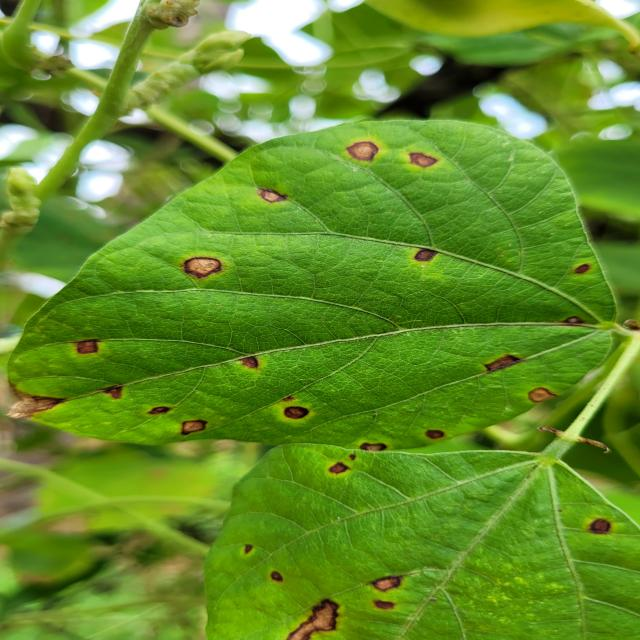Dolicos bean_cercospora leaf spot: (0, 116, 612, 462), (220, 445, 640, 640)
